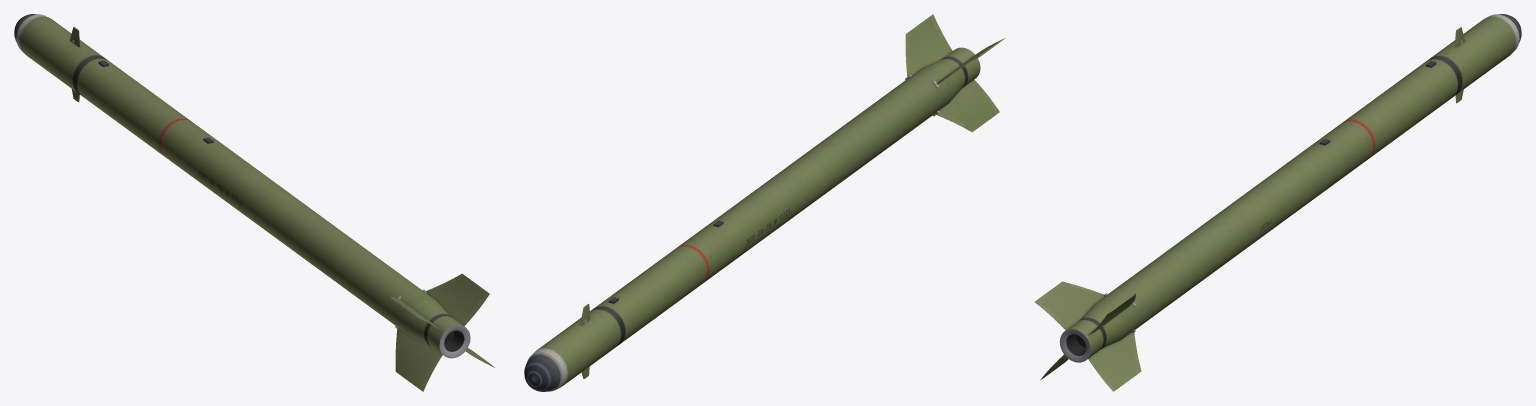
The model's file is msl_strela2.glb.
3 views of the same model, side by side, from view 1: azimuth 30°, elevation 25°; view 2: azimuth 150°, elevation 25°; view 3: azimuth 330°, elevation 25° (orthographic).
Parts seen in each view (by area): view 1: body|STR_M; view 2: body|STR_M; view 3: body|STR_M.
Boxes of the visible parts, box(x1,y1,x2,y2) form: body|STR_M: box(14, 14, 494, 391); body|STR_M: box(524, 14, 1004, 391); body|STR_M: box(1034, 14, 1521, 391).
Bounding box in the file's own units: 0.1476 × 0.1476 × 1.4.
Materials: 1 (1 with a texture image).
